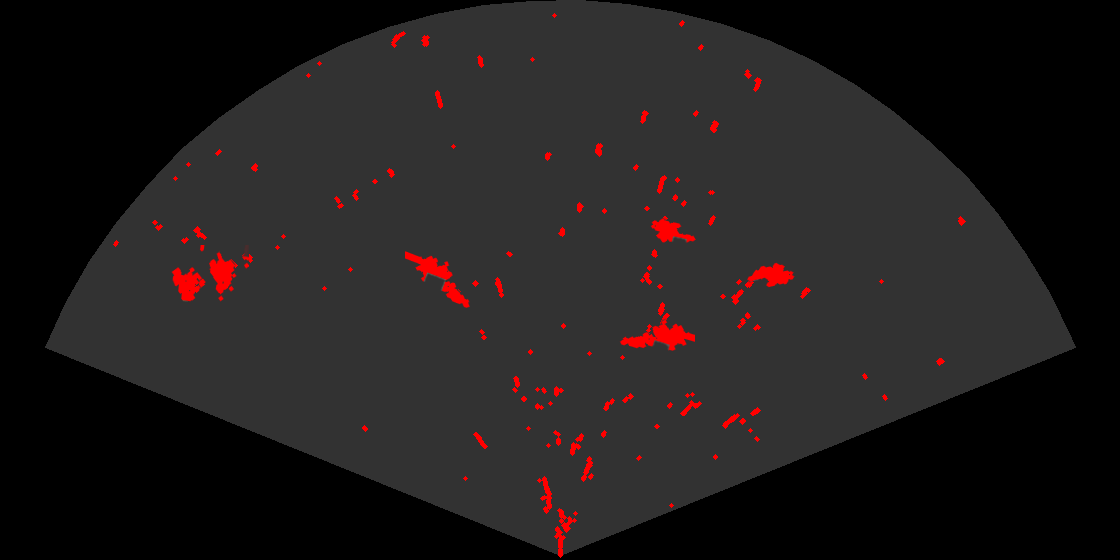AUV: (746, 261, 796, 289), (649, 217, 697, 244)
cage: (170, 245, 249, 303)
frogman: (405, 250, 471, 309), (619, 318, 695, 352)
